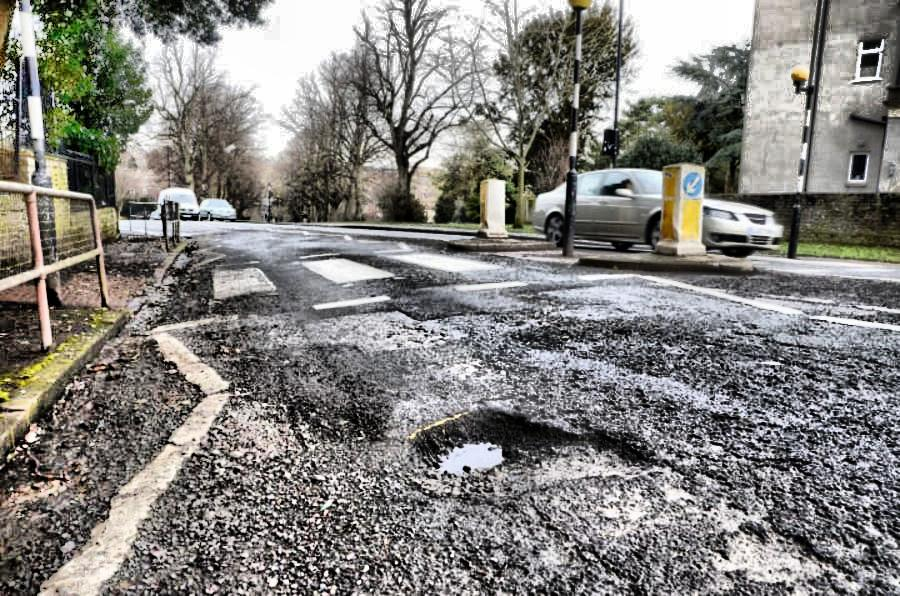pothole: (409, 409, 538, 482)
